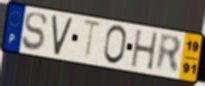H: (130, 29, 160, 72)
O: (102, 24, 128, 67)
R: (154, 32, 183, 76)
S: (21, 11, 49, 52)
T: (81, 18, 103, 63)
V: (51, 15, 74, 57)
